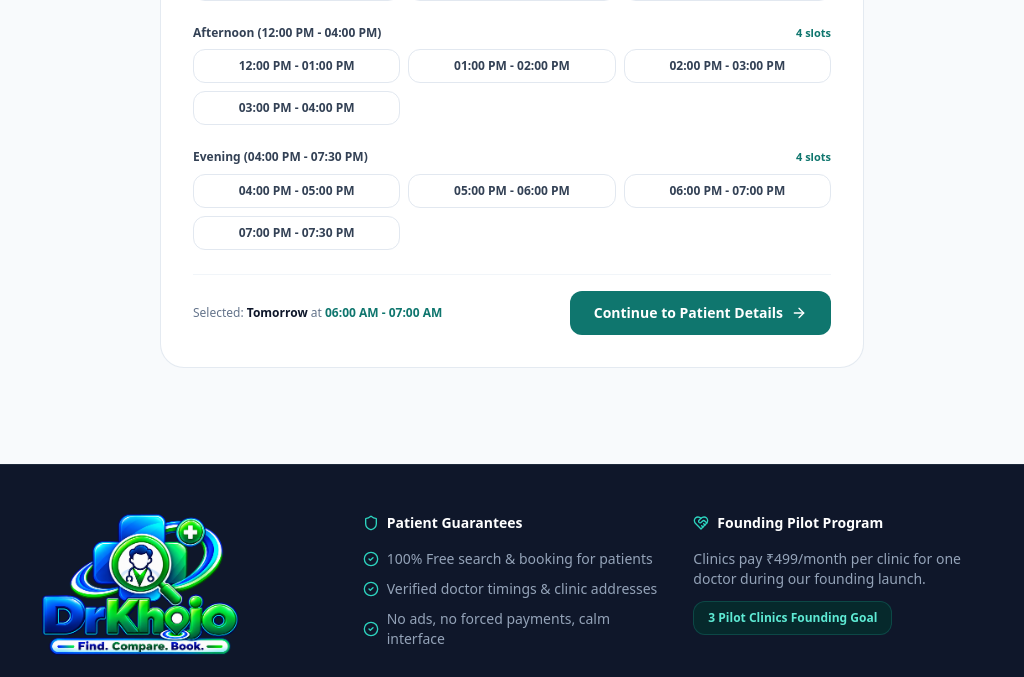
Scenario: Booking Flow & Patient Details › renders Step 1 (Date & Time) and navigates to Step 2 (Patient Details)
(page scrolled)
# Click continue to patient details
What coordinates should you click on to do the following:
click the button "Continue to Patient Details"
I would click on:
 (700, 312)
Its box is [570,290,831,334].
(page scrolled)
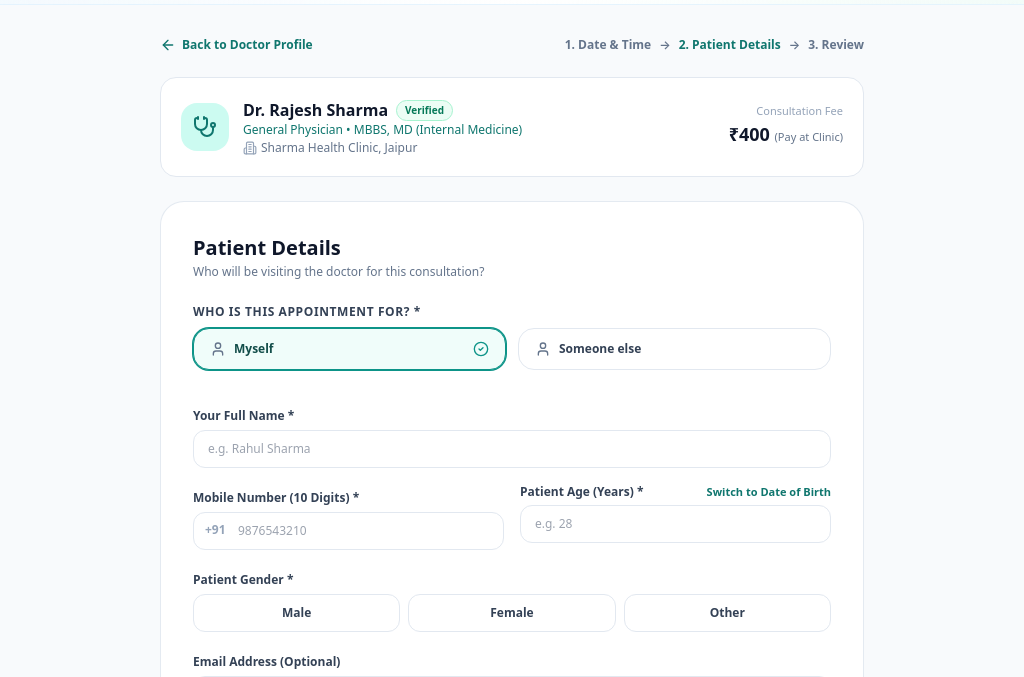
Result: the heading "Patient Details" is shown at [193,234,341,261]
Result: the text "Who is this appointment for? *" is shown at [193,303,421,320]
